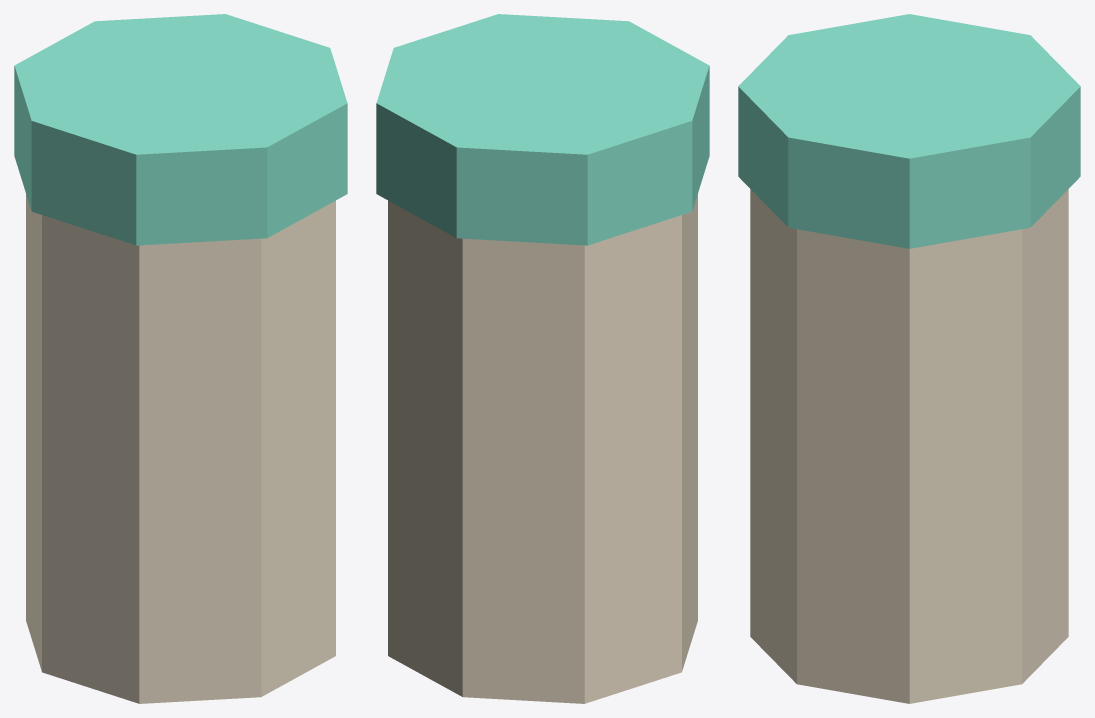
3 renders of one model, left to right at view 1: azimuth 30°, elevation 25°; view 2: azimuth 150°, elevation 25°; view 3: azimuth 270°, elevation 25°, orthographic.
Parts seen in each view (by area): view 1: Sample vial, Cap; view 2: Sample vial, Cap; view 3: Sample vial, Cap.
Boxes of the visible parts, x1,y1,x2,y2 form: Sample vial: (26,194,335,703); Cap: (14,14,347,245); Sample vial: (388,194,697,703); Cap: (376,14,709,245); Sample vial: (750,189,1068,703); Cap: (738,14,1080,248).
Bounding box in the file's own units: 0.086 × 0.1525 × 0.086.
1 material, 1 textured.
